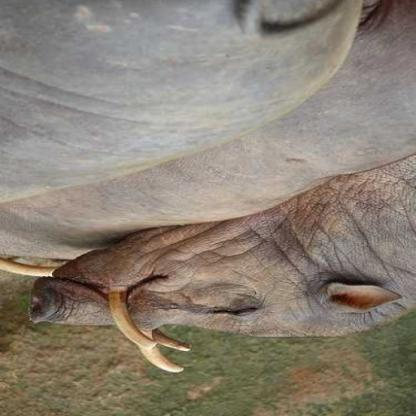boar: (22, 158, 415, 386)
